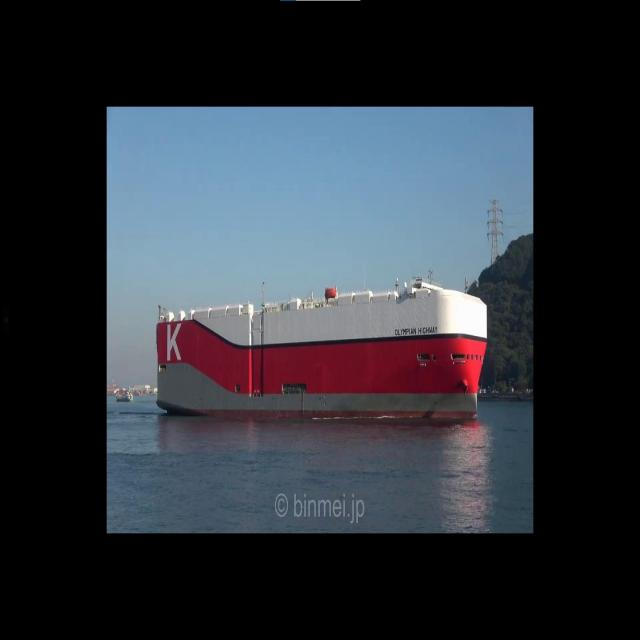ship: (155, 282, 488, 422)
